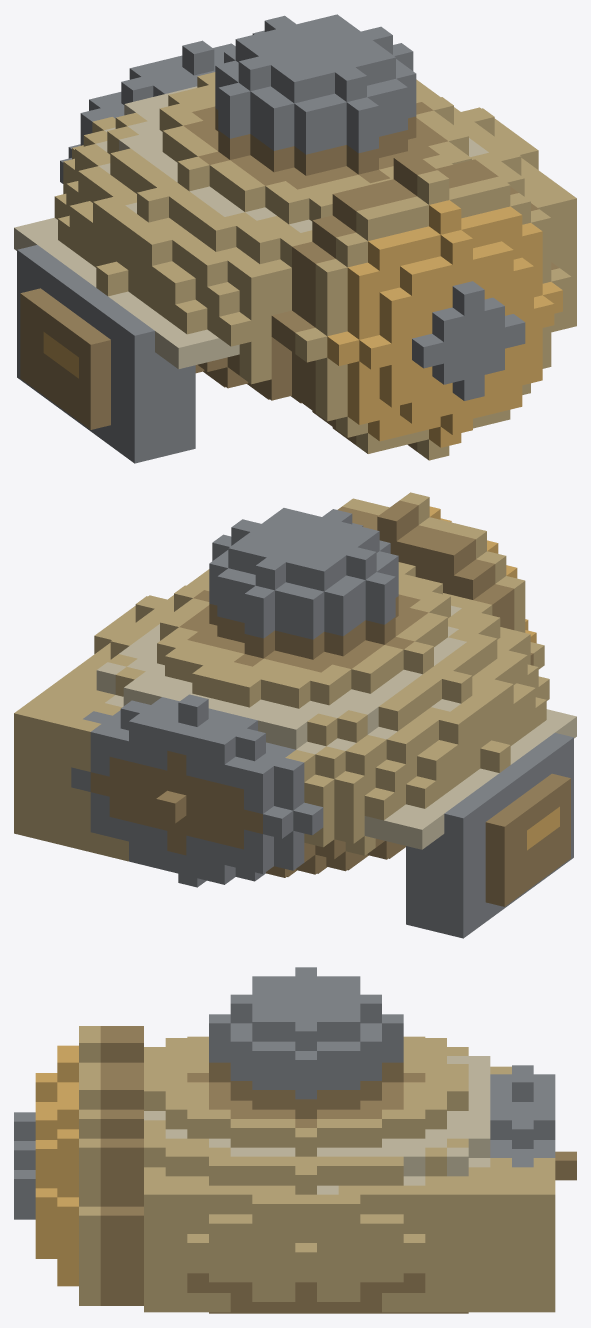
The model's file is nacelle_l.glb.
The picture shows the model from 3 angles, top to bottom: view 1: azimuth 30°, elevation 25°; view 2: azimuth 150°, elevation 25°; view 3: azimuth 270°, elevation 25°; orthographic projection. The views are drawn at different scales.
Bounding box in the file's own units: 23 × 15 × 26.
